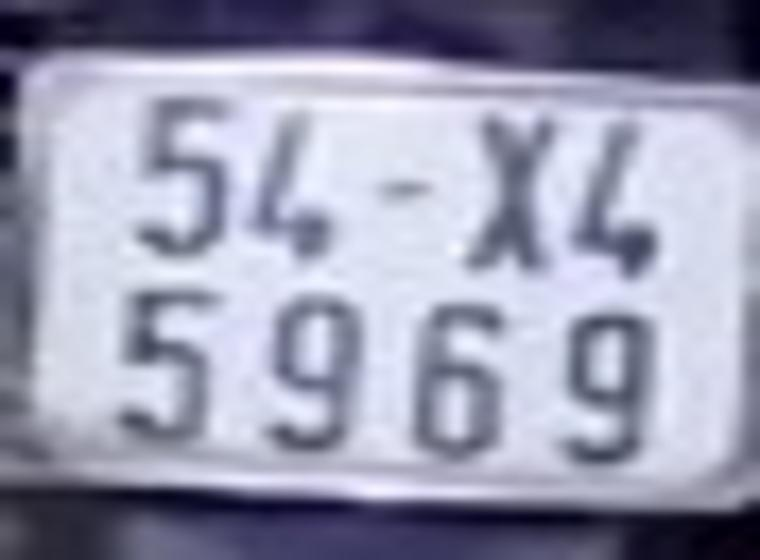-: (381, 179, 434, 202)
4: (246, 114, 326, 261), (582, 120, 655, 278)
5: (143, 94, 224, 255), (127, 289, 212, 442)
6: (415, 304, 496, 458)
9: (266, 293, 362, 443), (563, 310, 650, 457)
X: (470, 108, 549, 272)
